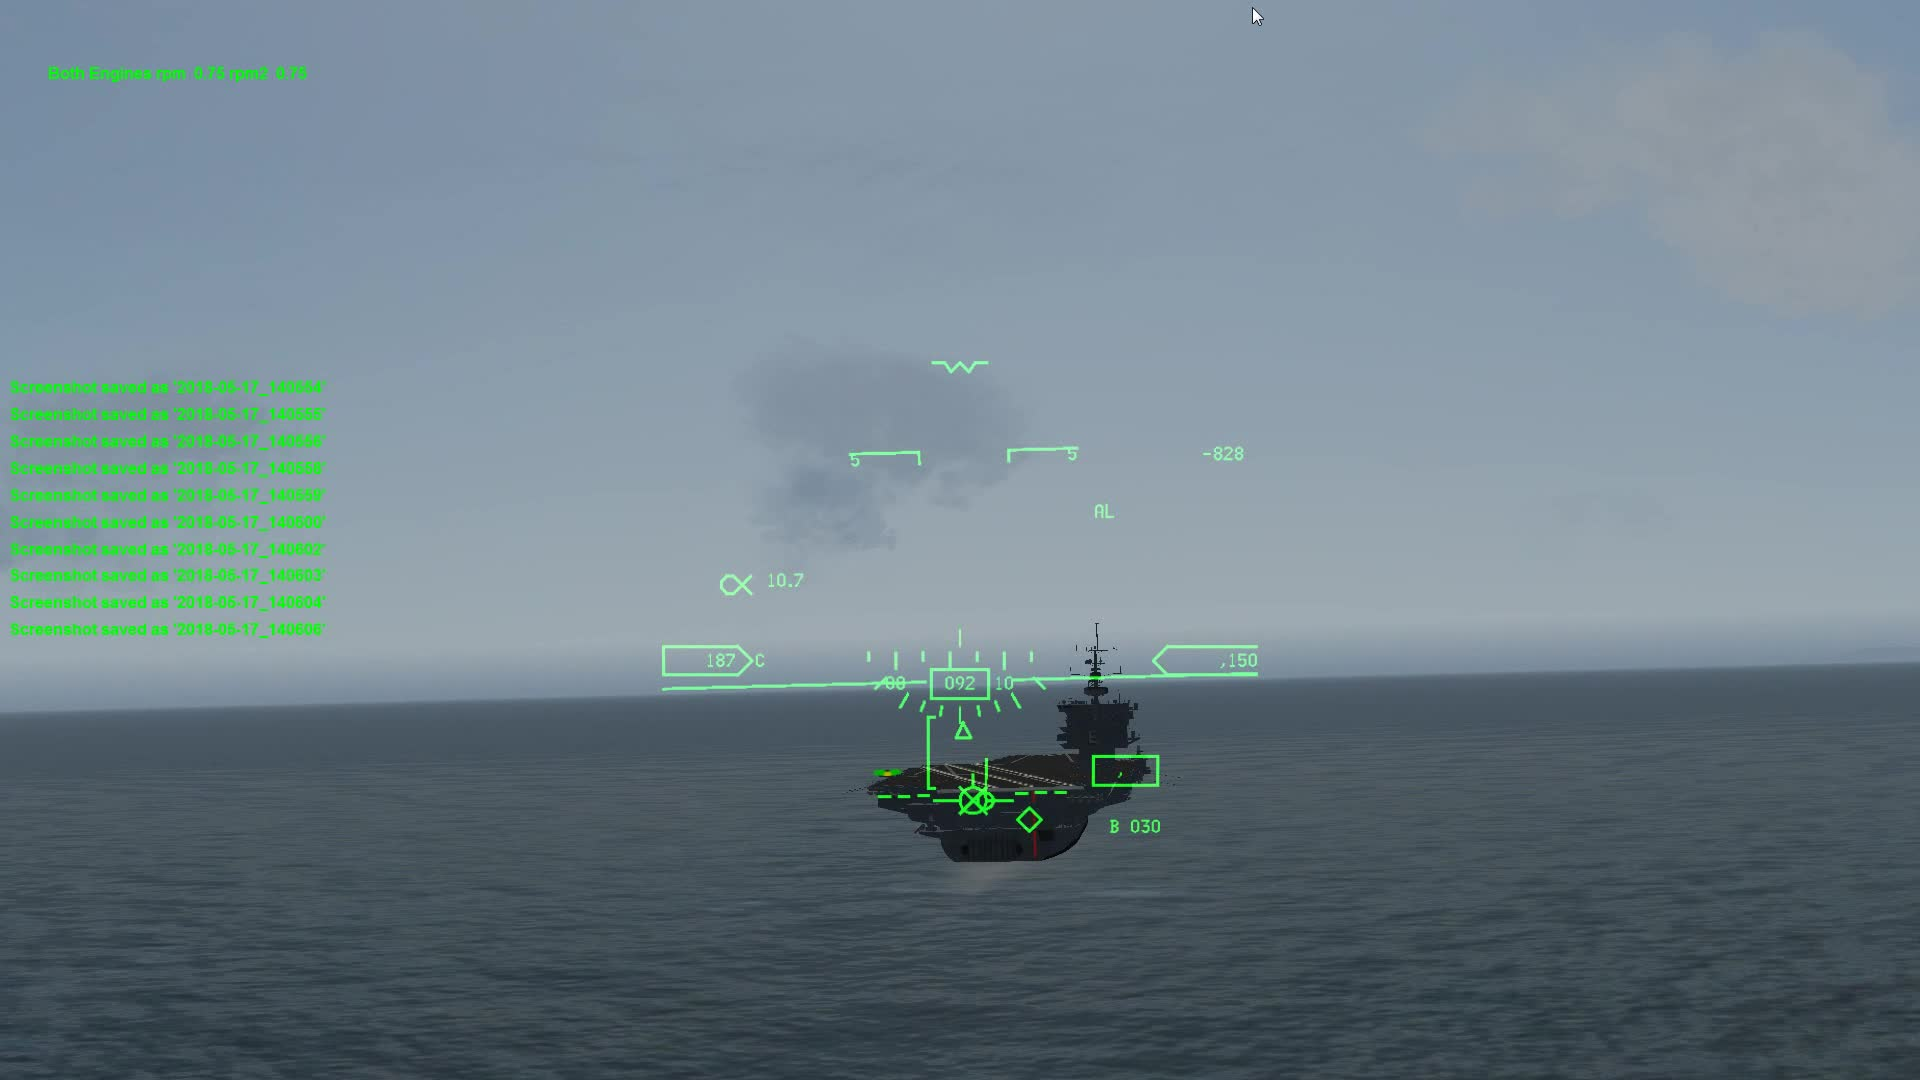speed vector: (935, 771, 1010, 823)
